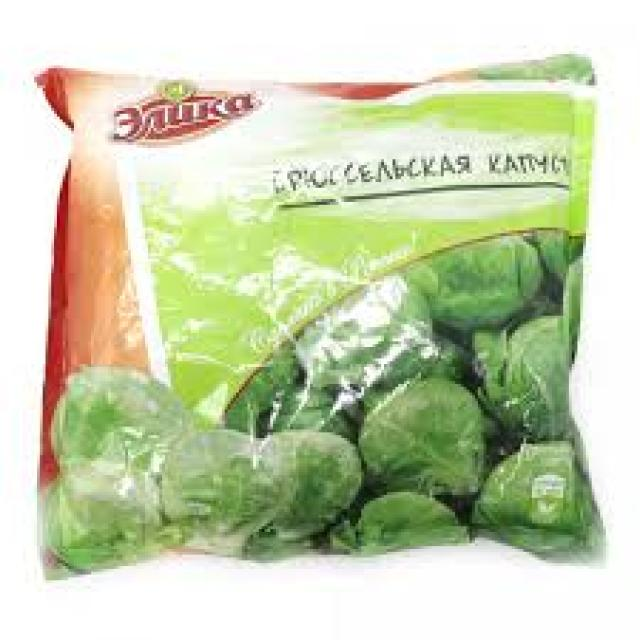choux de bruxelles: (298, 240, 597, 544), (35, 342, 305, 578)
